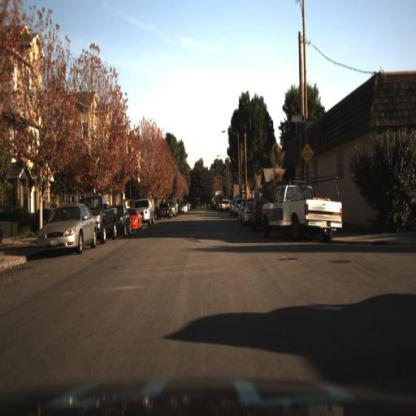car: (261, 170, 344, 242), (34, 202, 96, 259), (81, 194, 119, 243), (125, 206, 140, 230)
